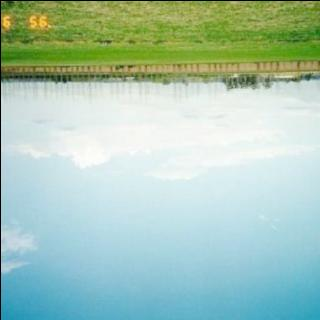Stratus: (0, 91, 320, 186)
